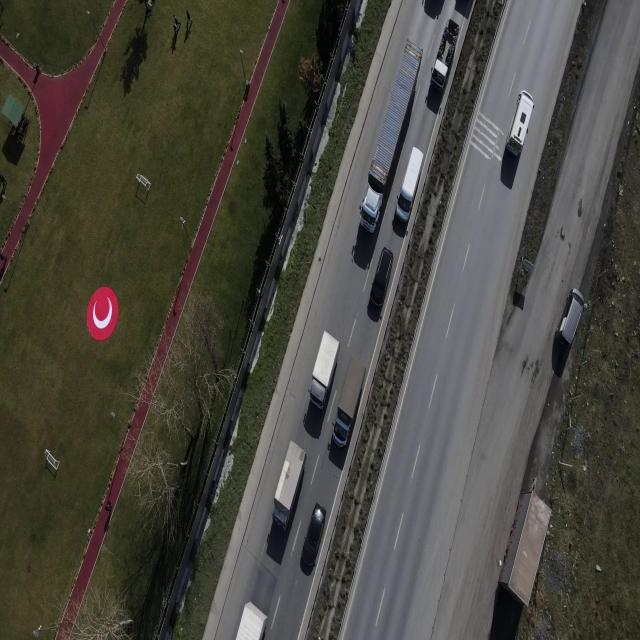p3rson: (185, 9, 193, 28), (0, 172, 7, 188), (171, 23, 179, 36), (174, 14, 181, 28), (106, 502, 112, 518)
